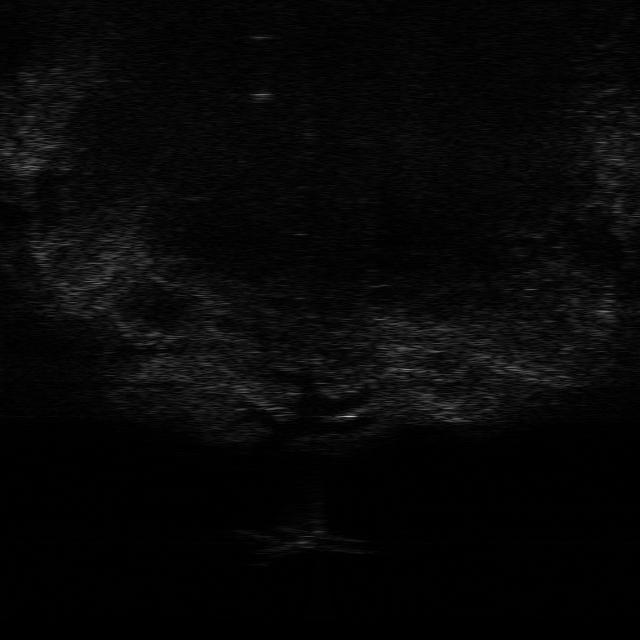plane: (232, 525, 372, 558)
